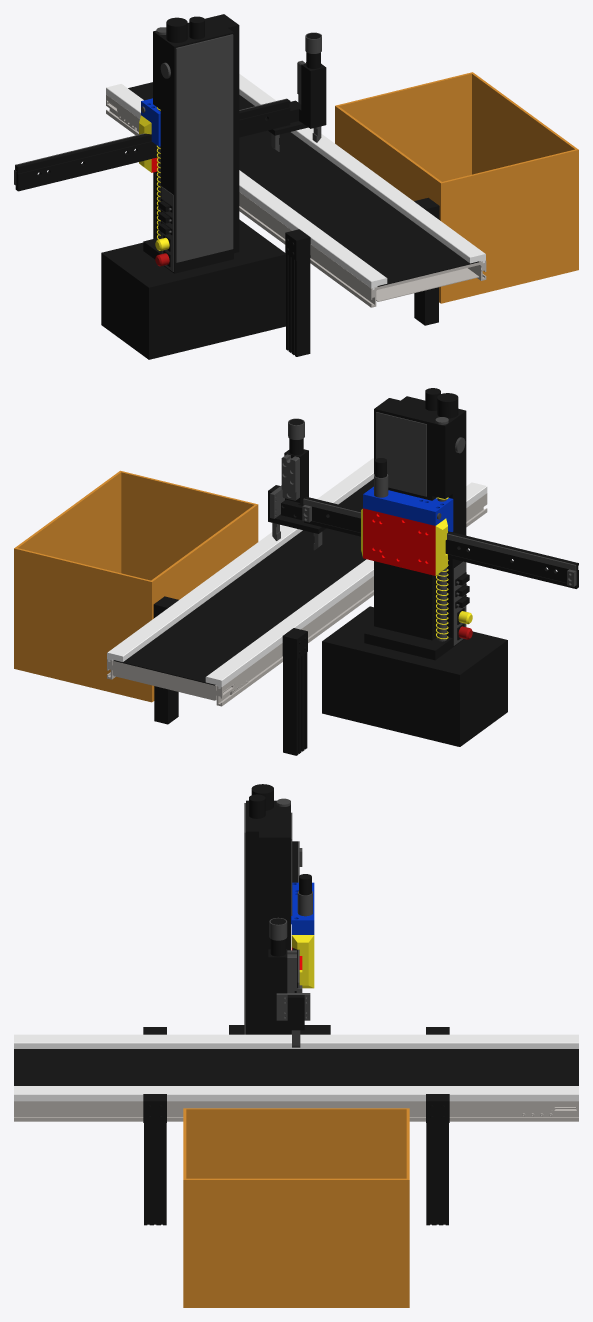
File: Collection_Box_Station.glb
3 renders of one model, top to bottom at view 1: azimuth 30°, elevation 25°; view 2: azimuth 150°, elevation 25°; view 3: azimuth 270°, elevation 25°, orthographic. The views are drawn at different scales.
Visible parts, largest first — view 1: color-49, color, color-47[2].001, color[26], color[25], color-5[3], color-47[3].001, color-47[4].001, color-47[5].001, color-48[1], color-47[1].001, color-48[2] (+4 smaller); view 2: color-49, color, color-47[2].001, color[25], color-47[3].001, color-47[4].001, color-5[3], color-2[7], color[24], color-48, color-47[5].001, color-47.001 (+10 smaller); view 3: color-49, color-47[2].001, color-47[3].001, color-47[4].001, color[25], color-47[5].001, color-48[2], color-48[3], color-47.001, color-5[7], color-2[5], color-2[1].
Part boxes in pixels (bbox=[...]): color-49: bbox=[335, 72, 578, 303]; color: bbox=[101, 219, 285, 359]; color-47[2].001: bbox=[128, 82, 479, 286]; color[26]: bbox=[175, 34, 233, 262]; color[25]: bbox=[153, 14, 239, 263]; color-5[3]: bbox=[15, 99, 290, 191]; color-47[3].001: bbox=[239, 74, 485, 263]; color-47[4].001: bbox=[106, 84, 387, 289]; color-47[5].001: bbox=[125, 109, 486, 307]; color-48[1]: bbox=[285, 229, 310, 356]; color-47[1].001: bbox=[376, 268, 478, 301]; color-48[2]: bbox=[414, 197, 439, 325]; color-49: bbox=[14, 470, 258, 702]; color: bbox=[322, 606, 507, 746]; color-47[2].001: bbox=[113, 478, 373, 685]; color[25]: bbox=[374, 396, 466, 640]; color-47[3].001: bbox=[107, 458, 373, 661]; color-47[4].001: bbox=[205, 482, 487, 688]; color-5[3]: bbox=[304, 497, 578, 588]; color-2[7]: bbox=[363, 508, 435, 575]; color[24]: bbox=[376, 412, 426, 496]; color-48: bbox=[282, 628, 307, 755]; color-47[5].001: bbox=[241, 493, 487, 691]; color-47.001: bbox=[107, 659, 248, 706]; color-49: bbox=[183, 1108, 409, 1307]; color-47[2].001: bbox=[14, 1049, 578, 1085]; color-47[3].001: bbox=[14, 1086, 578, 1101]; color-47[4].001: bbox=[14, 1034, 578, 1048]; color[25]: bbox=[246, 800, 290, 1034]; color-47[5].001: bbox=[14, 1101, 537, 1121]; color-48[2]: bbox=[143, 1094, 166, 1225]; color-48[3]: bbox=[426, 1094, 449, 1225]; color-47.001: bbox=[520, 1101, 578, 1121]; color-5[7]: bbox=[268, 957, 287, 1018]; color-2[5]: bbox=[291, 935, 314, 988]; color-2[1]: bbox=[291, 882, 314, 934].
Bounding box in the file's own units: 1.11 × 0.6555 × 1.
